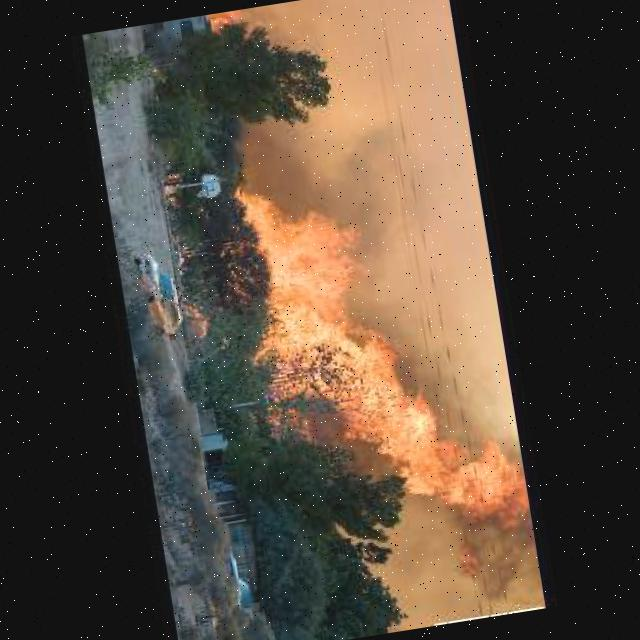fire: (241, 162, 527, 549)
